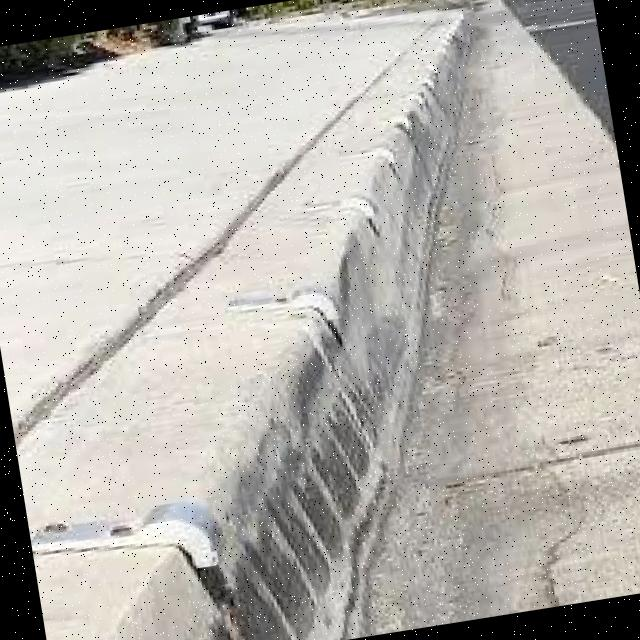curb: (1, 196, 496, 640), (300, 86, 472, 291), (387, 7, 497, 138)
